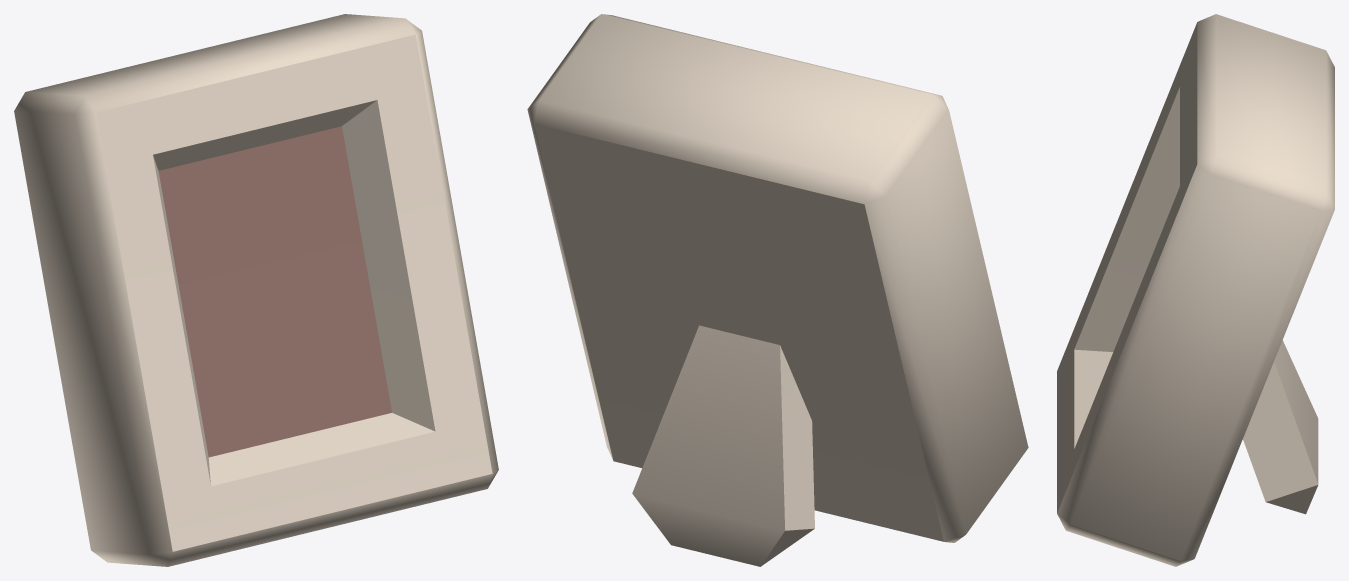
File: pictureframe_standing_A.obj
The picture shows the model from 3 angles, left to right: view 1: azimuth 30°, elevation 25°; view 2: azimuth 150°, elevation 25°; view 3: azimuth 270°, elevation 25°; orthographic projection. The views are drawn at different scales.
Visible parts, largest first — view 1: pictureframe_standing_A_Cube.024; view 2: pictureframe_standing_A_Cube.024; view 3: pictureframe_standing_A_Cube.024.
Boxes of the visible parts, x1,y1,x2,y2 form: pictureframe_standing_A_Cube.024: (14, 14, 498, 566); pictureframe_standing_A_Cube.024: (527, 14, 1028, 566); pictureframe_standing_A_Cube.024: (1057, 14, 1334, 566).
Bounding box in the file's own units: 0.5 × 0.6185 × 0.3795.
1 material, 1 textured.
